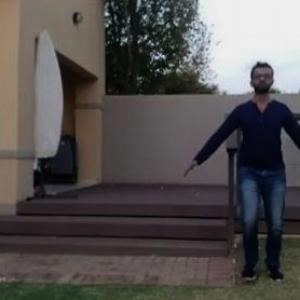land: (175, 63, 299, 288)
